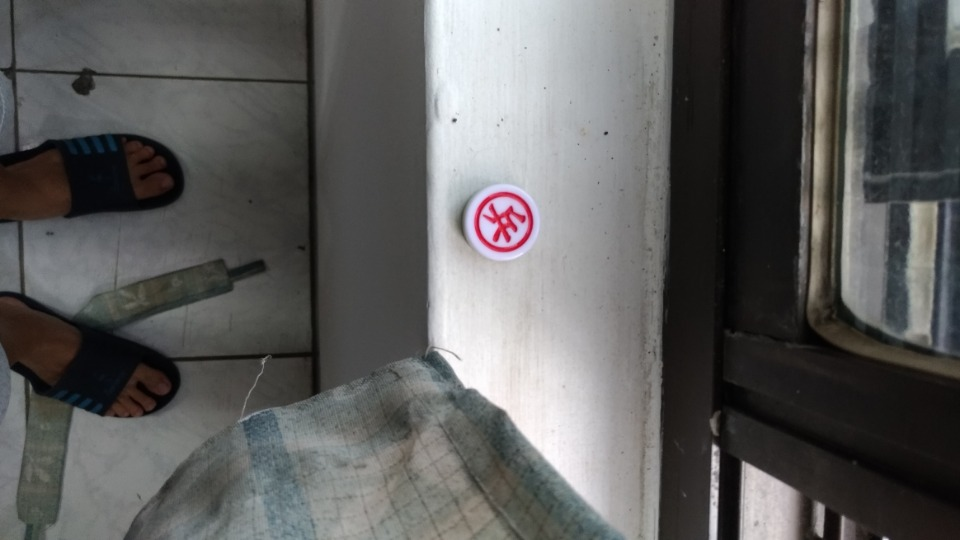r-pawn: (456, 173, 551, 273)
